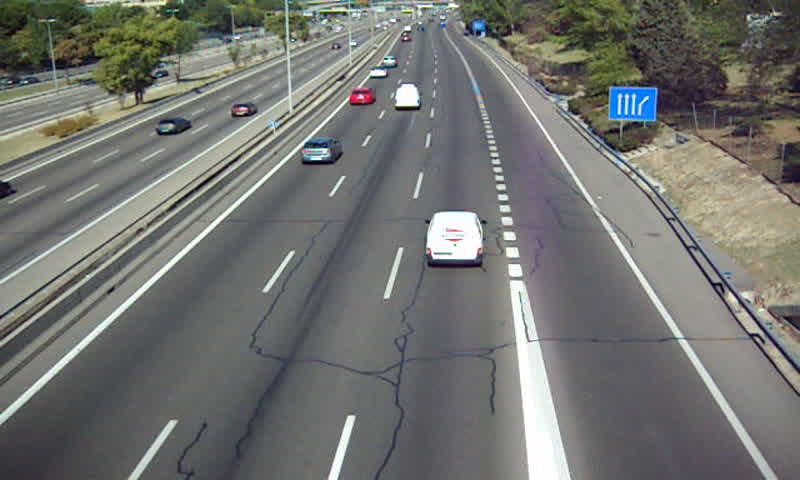car: (301, 136, 341, 163), (349, 88, 372, 105), (370, 66, 387, 79), (382, 54, 395, 67)
van: (425, 212, 483, 266), (395, 83, 420, 109)
